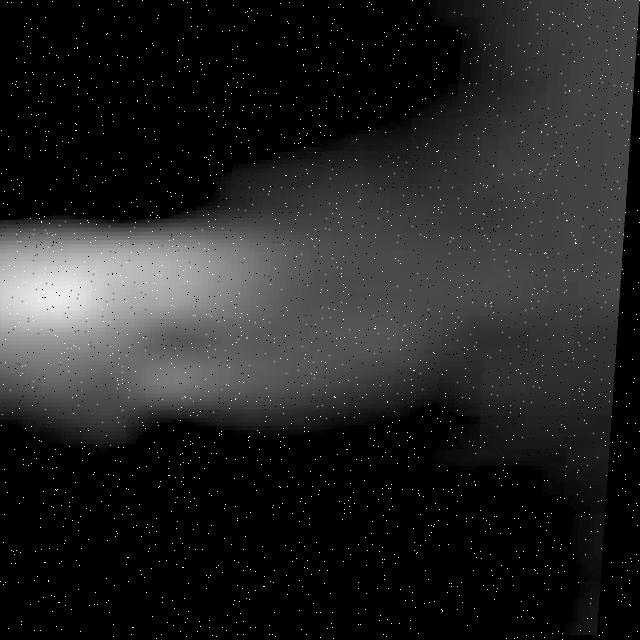person: (1, 210, 492, 437)
